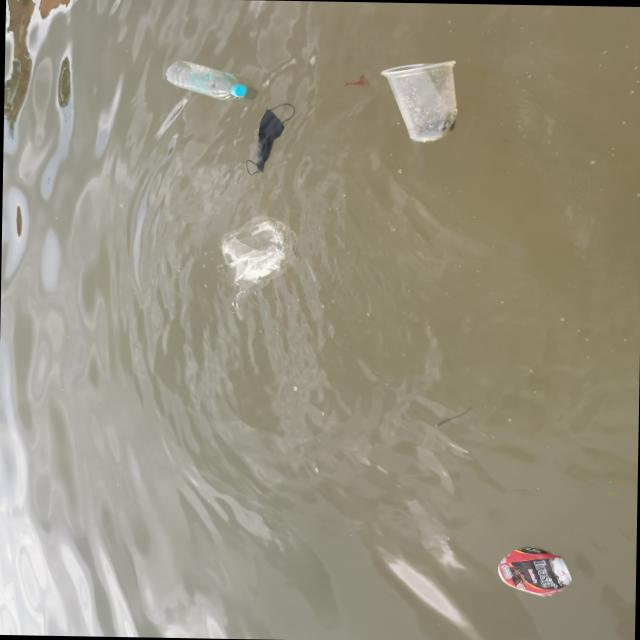can: (496, 540, 570, 599)
plastic: (160, 56, 251, 98)
plastic bottle: (213, 213, 300, 292), (378, 58, 457, 140)
unknow: (246, 100, 296, 173)
